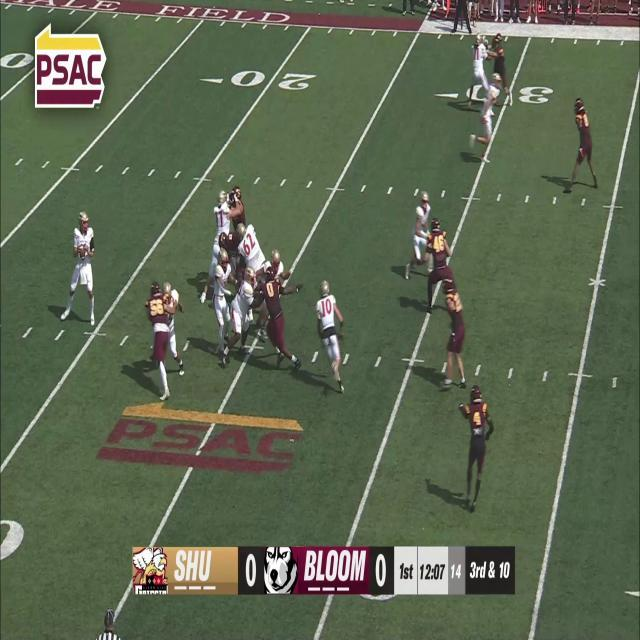football: (78, 244, 86, 260)
